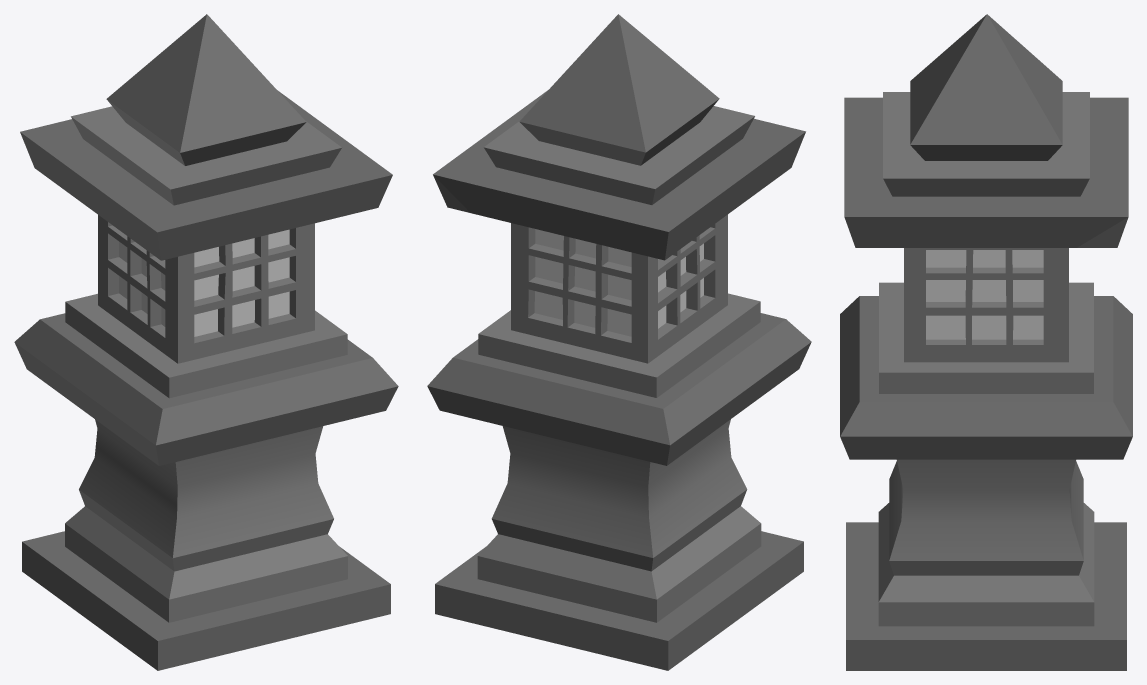
File: lantern4.fbx
3 renders of one model, left to right at view 1: azimuth 30°, elevation 25°; view 2: azimuth 150°, elevation 25°; view 3: azimuth 270°, elevation 25°, orthographic. The views are drawn at different scales.
Visible parts, largest first — view 1: lantern4; view 2: lantern4; view 3: lantern4.
Part boxes in pixels (left/top/right/bottom): lantern4: left=14, top=14, right=398, bottom=670; lantern4: left=427, top=14, right=811, bottom=670; lantern4: left=840, top=14, right=1132, bottom=670.
Bounding box in the file's own units: 108 × 246 × 109.
